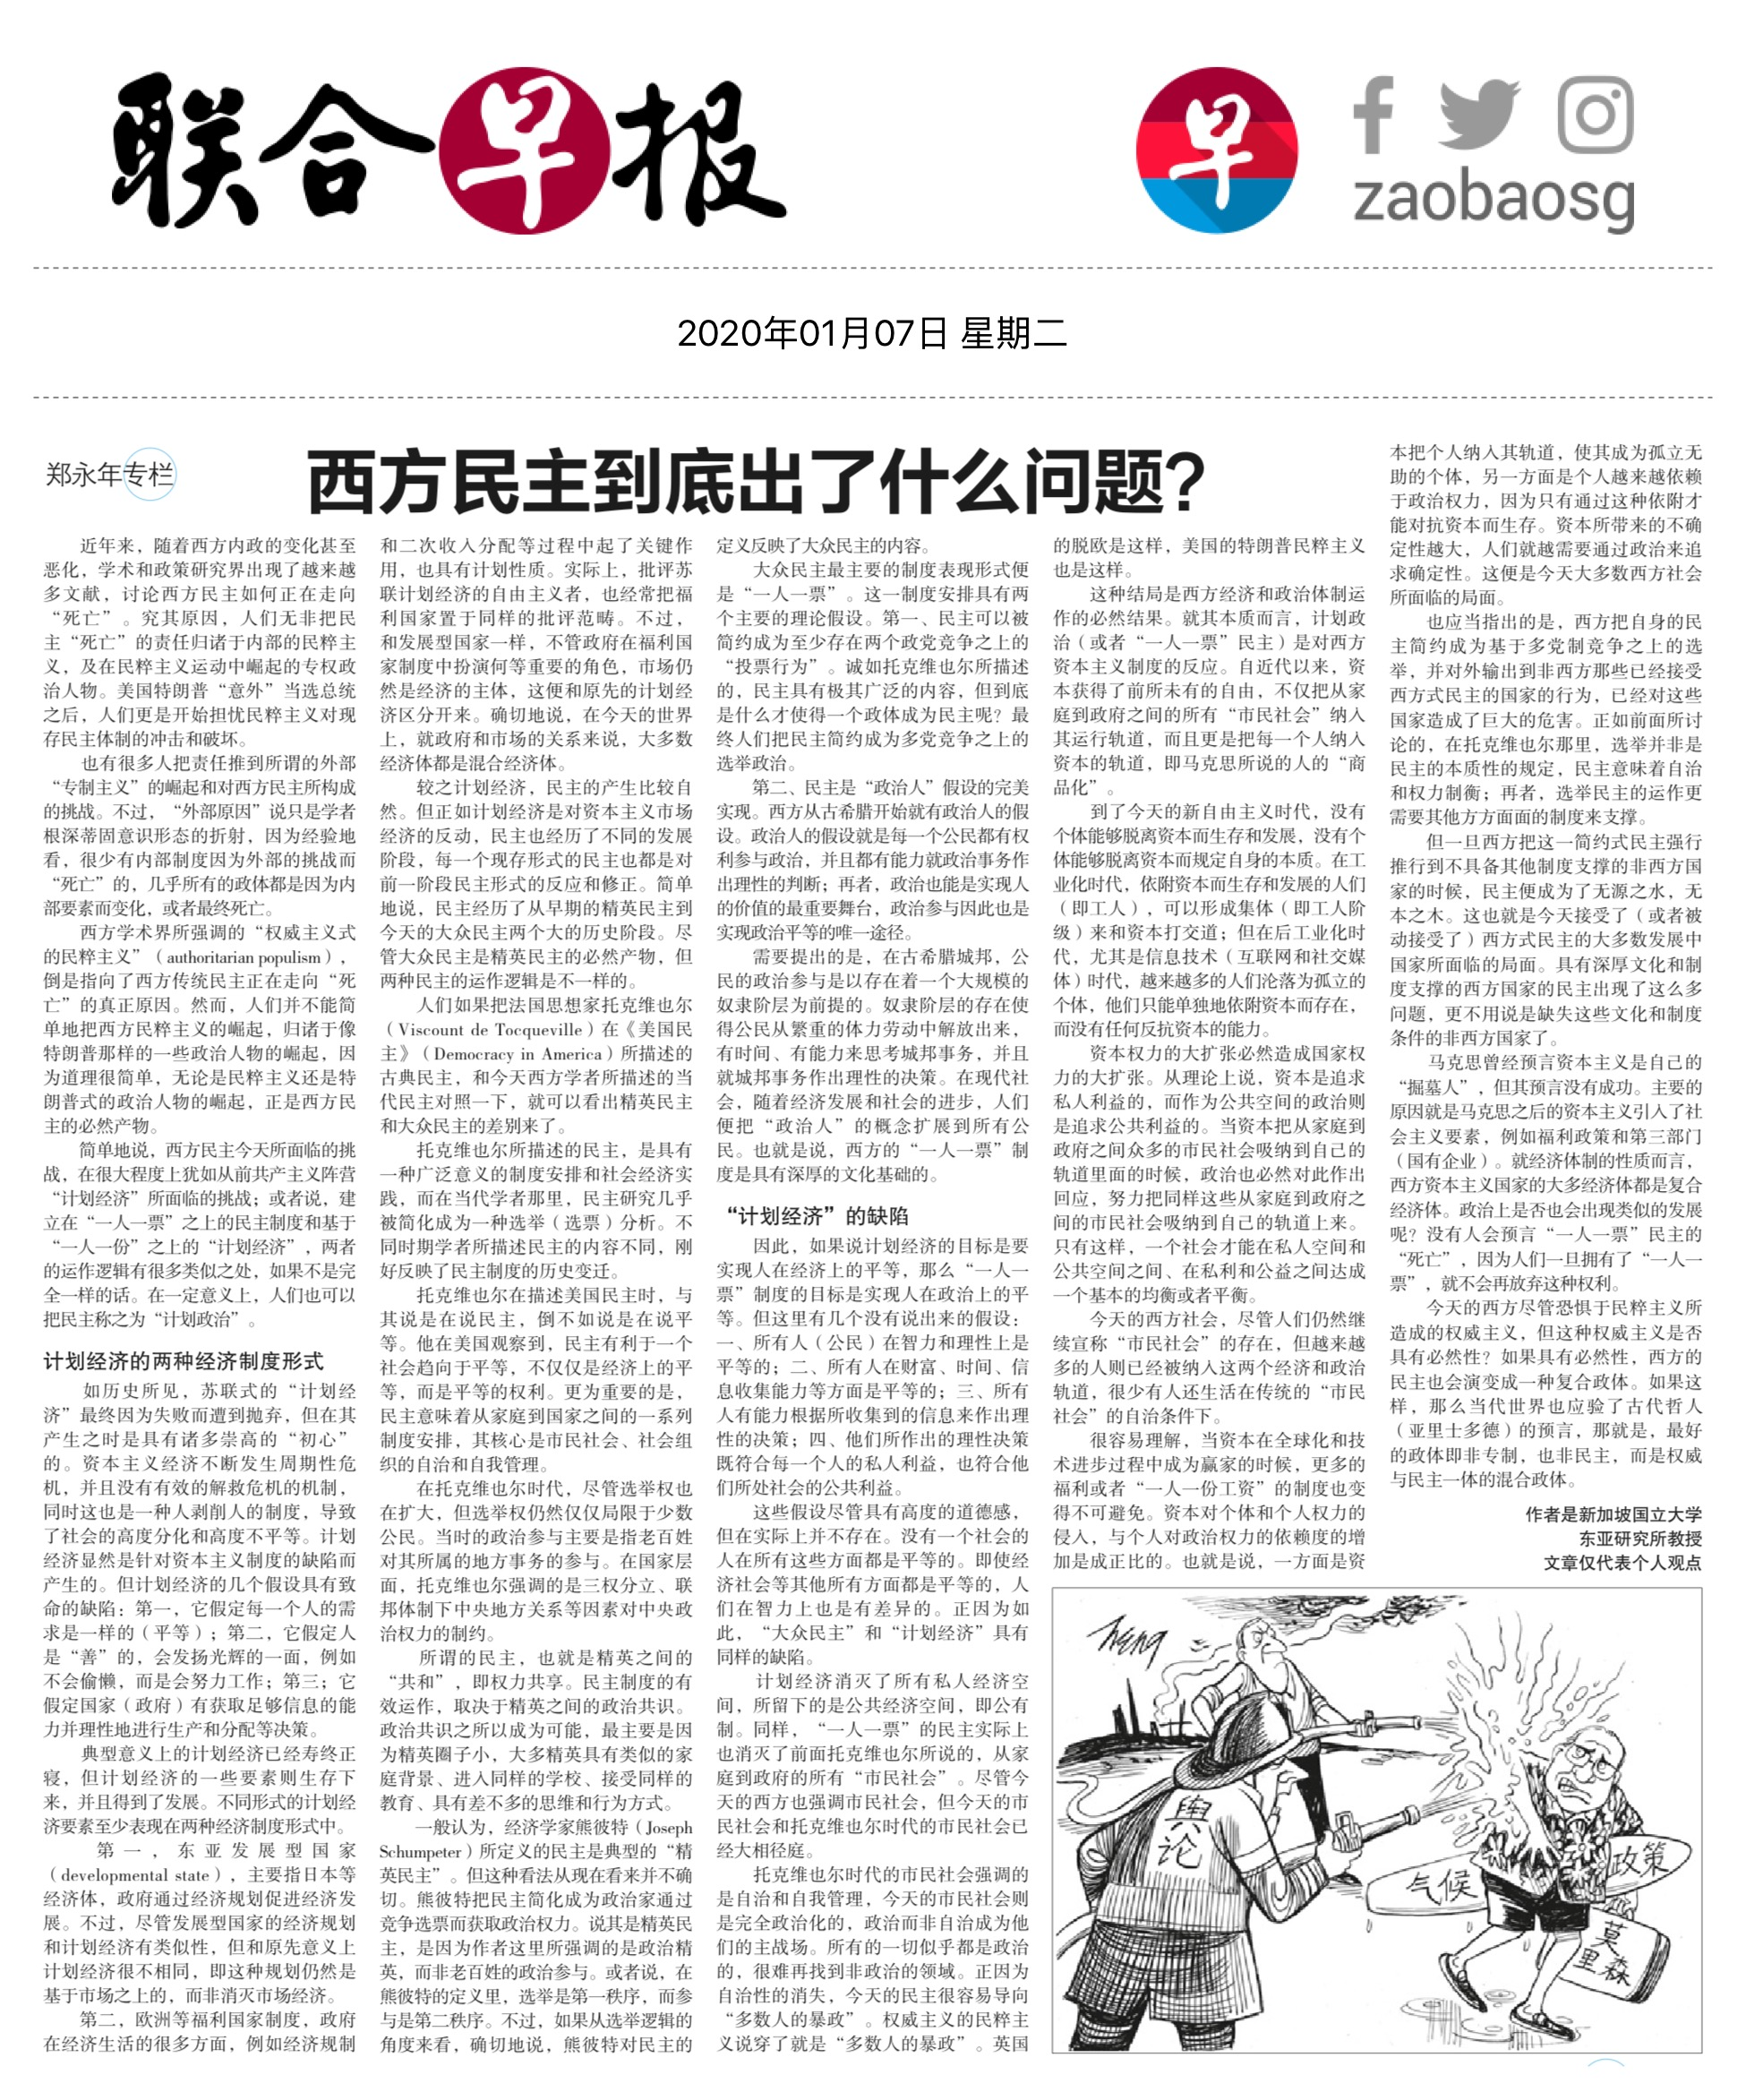heading: (295, 433, 1216, 522)
